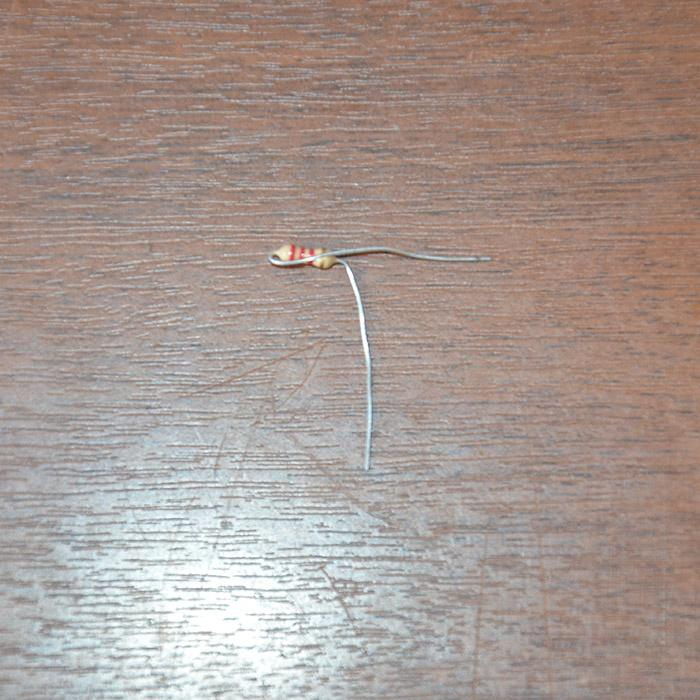resistor: (270, 242, 333, 268)
